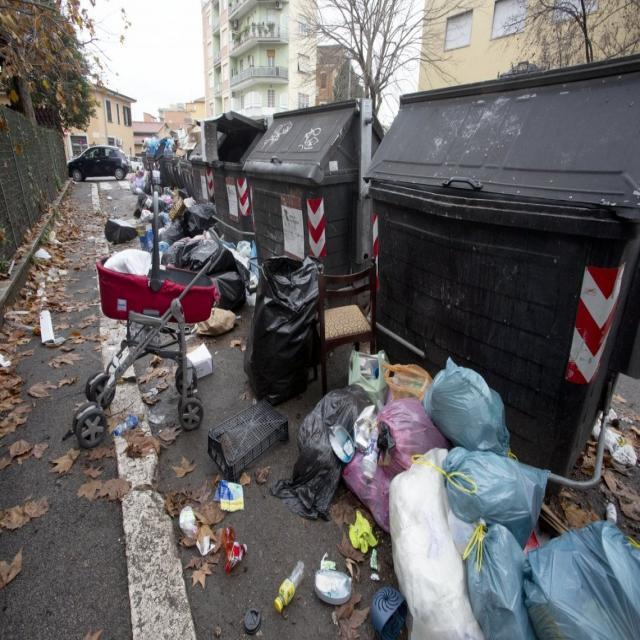garbage: (245, 253, 634, 640), (106, 147, 244, 456)
